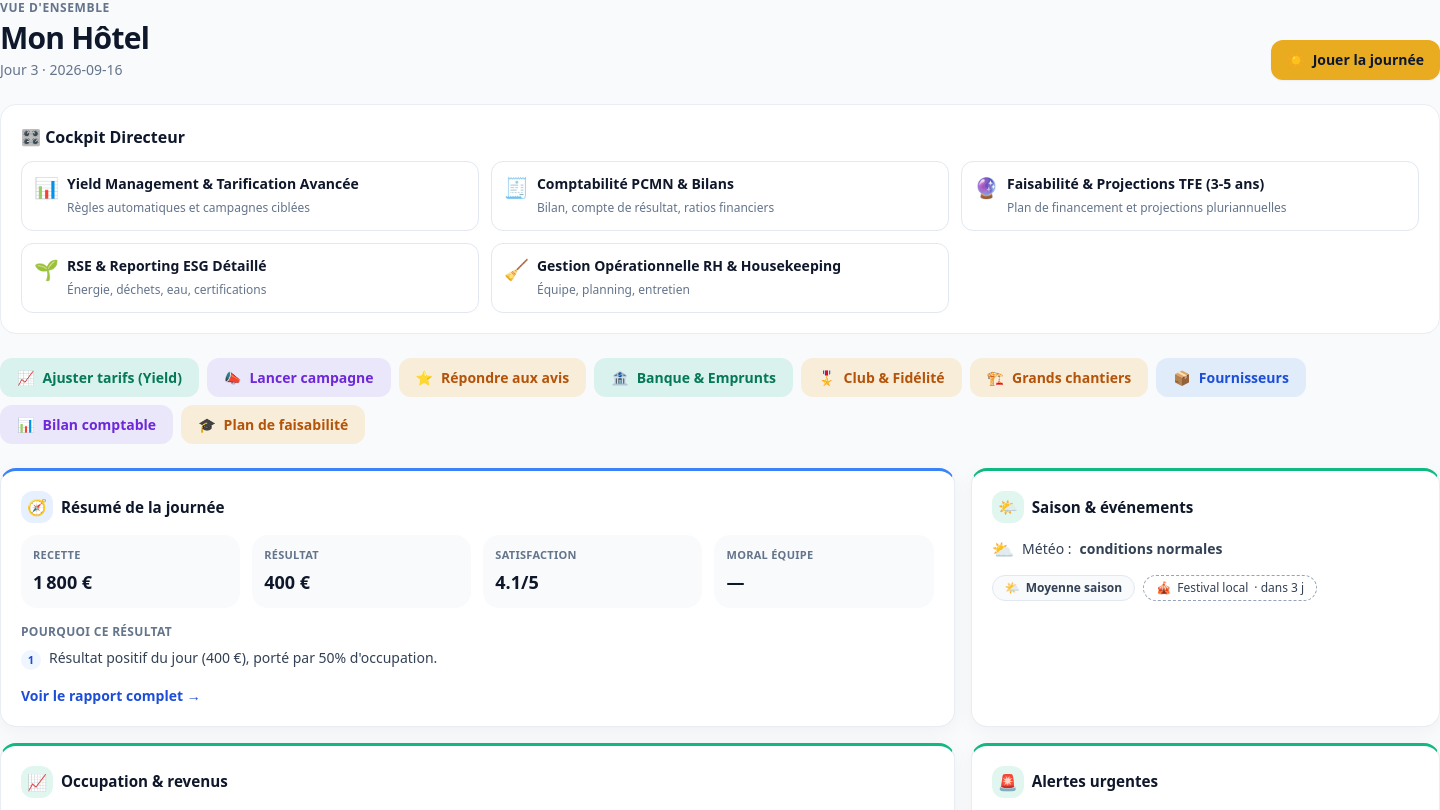
Test: Dashboard / bank › opens the bank's desk from there
Click the button with test id "quick-banking".
click(694, 378)  # box [594,358,793,397]
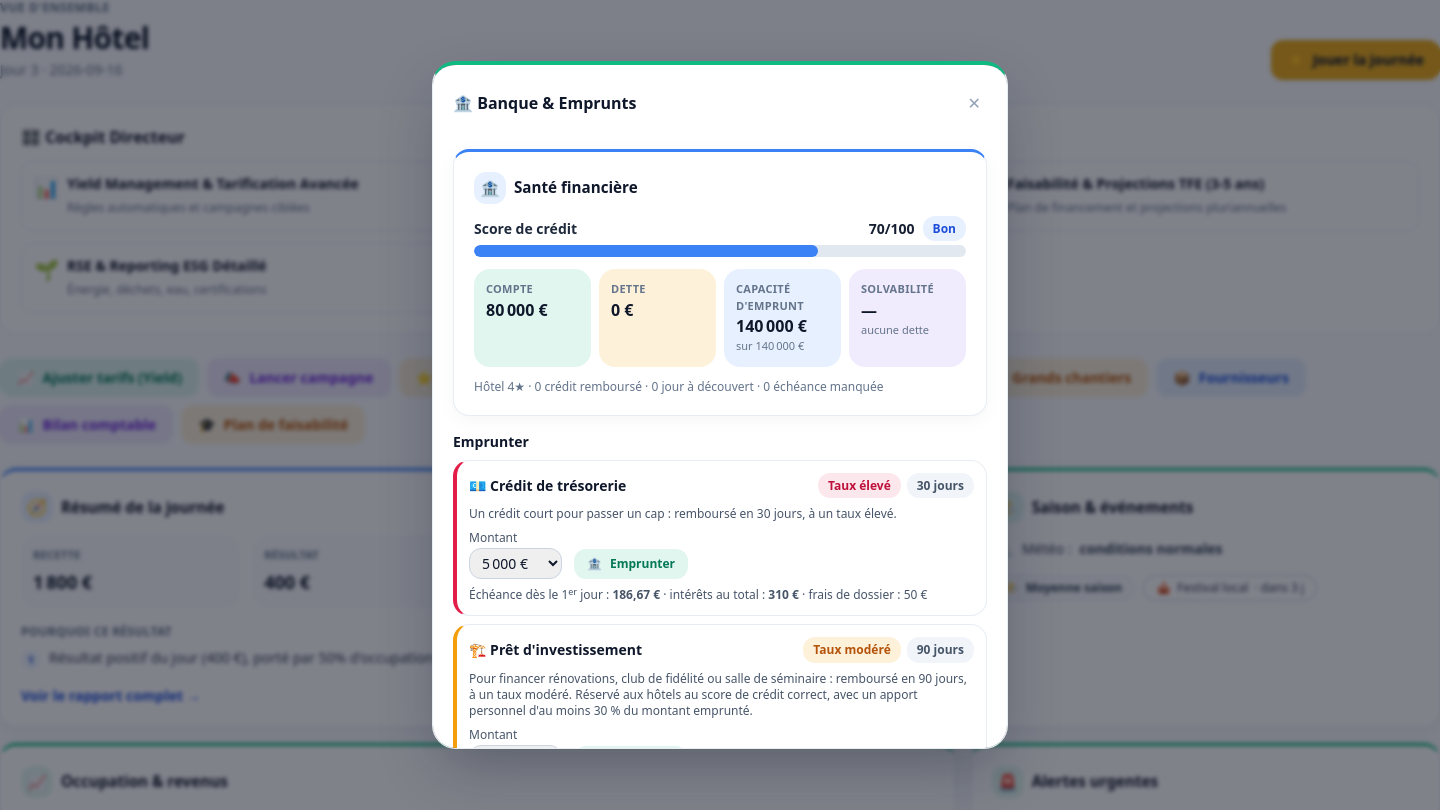
Check: the dialog "Banque & Emprunts" is shown
